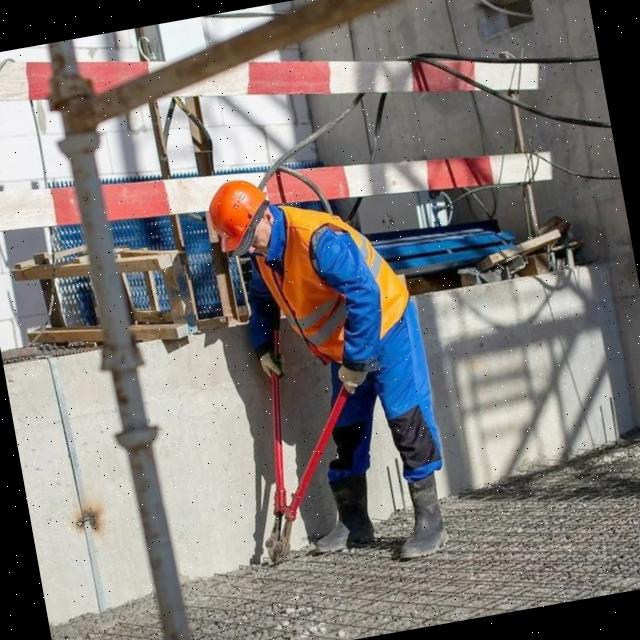Helmet: (205, 176, 278, 260)
Jacket: (261, 190, 407, 367)
